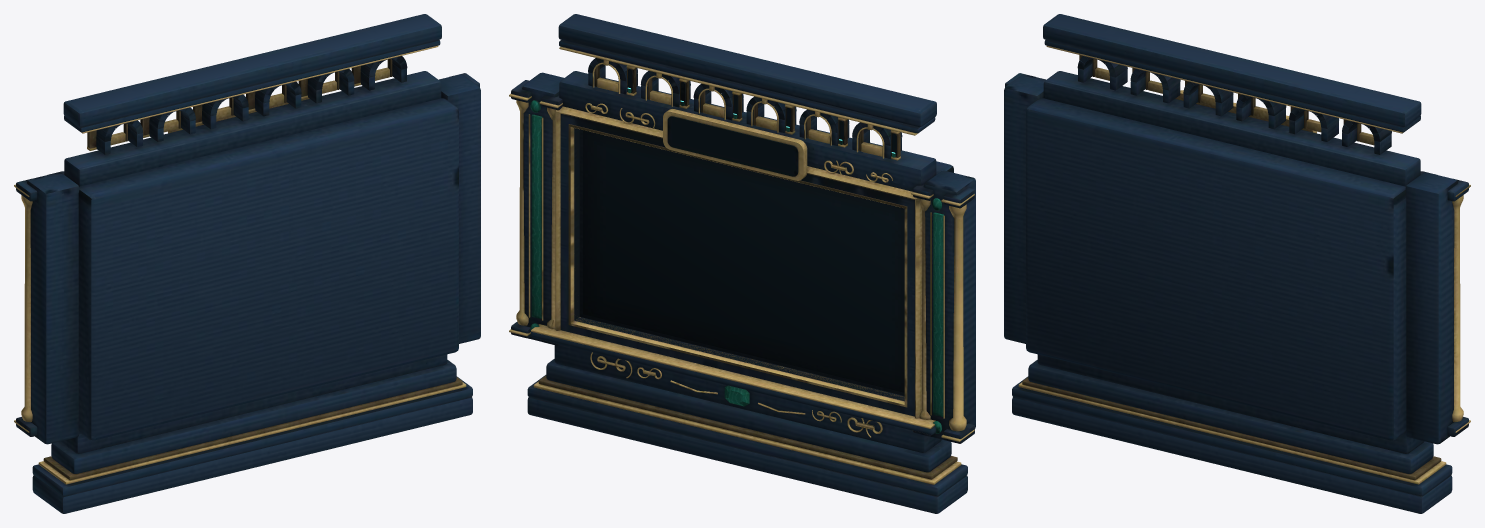
3 views of the same model, side by side, from view 1: azimuth 30°, elevation 25°; view 2: azimuth 150°, elevation 25°; view 3: azimuth 330°, elevation 25° (orthographic).
Parts seen in each view (by area): view 1: Aqueduct_navy_slate, Brushed_champagne_gold, Recessed_bronze; view 2: Aqueduct_navy_slate, Flat_dark_enamel, Brushed_champagne_gold, Emerald_water_jade, Recessed_bronze; view 3: Aqueduct_navy_slate, Brushed_champagne_gold, Recessed_bronze.
Part boxes in pixels (x1,y1,x2,y2): Aqueduct_navy_slate: (16,14,480,513); Brushed_champagne_gold: (14,45,466,484); Recessed_bronze: (43,59,462,480); Aqueduct_navy_slate: (511,14,975,513); Flat_dark_enamel: (583,69,904,392); Brushed_champagne_gold: (509,46,974,484); Emerald_water_jade: (530,87,943,433); Recessed_bronze: (538,65,957,479); Aqueduct_navy_slate: (1004,14,1468,513); Brushed_champagne_gold: (1018,45,1470,484); Recessed_bronze: (1022,55,1441,480).
Bounding box in the file's own units: 11.09 × 9.2 × 1.72.
Materials: 6 (5 with a texture image).
